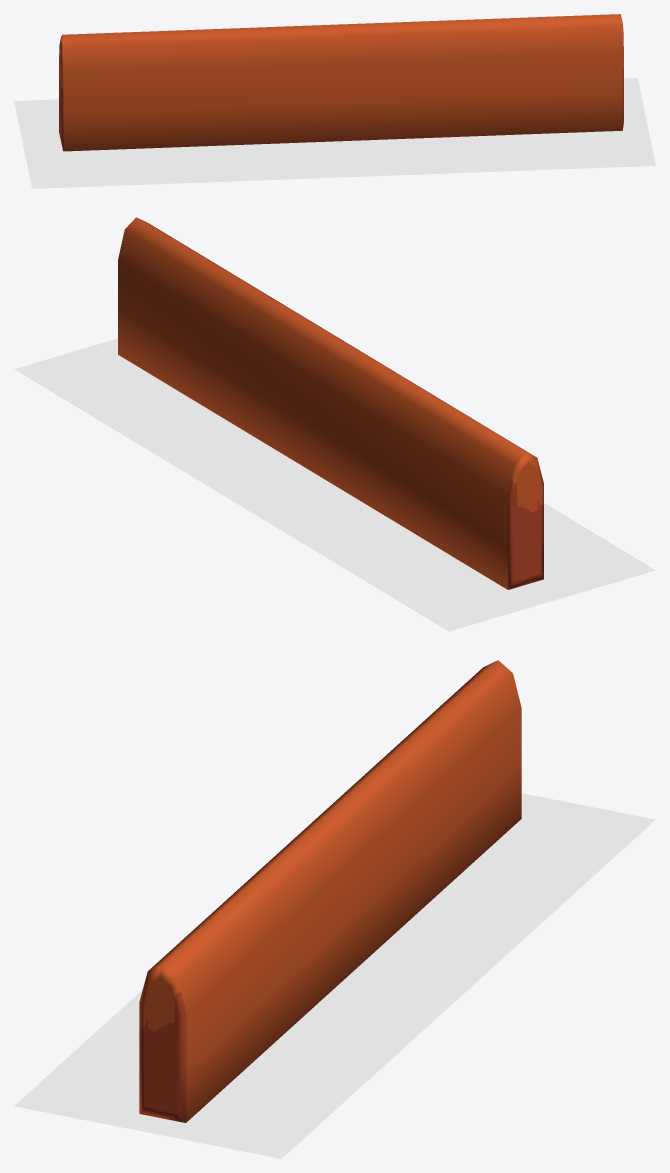
File: NormalContent.fbx
3 renders of one model, top to bottom at view 1: azimuth 30°, elevation 25°; view 2: azimuth 150°, elevation 25°; view 3: azimuth 270°, elevation 25°, orthographic. The views are drawn at different scales.
Visible parts, largest first — view 1: BasicObstacle, Shadow; view 2: BasicObstacle, Shadow; view 3: BasicObstacle, Shadow.
Part boxes in pixels (x1,y1,x2,y2): BasicObstacle: (59,14,623,151); Shadow: (14,78,655,188); BasicObstacle: (118,217,543,589); Shadow: (14,338,655,631); BasicObstacle: (139,660,521,1122); Shadow: (14,793,655,1158).
Bounding box in the file's own units: 2.14 × 0.3992 × 1.48.
